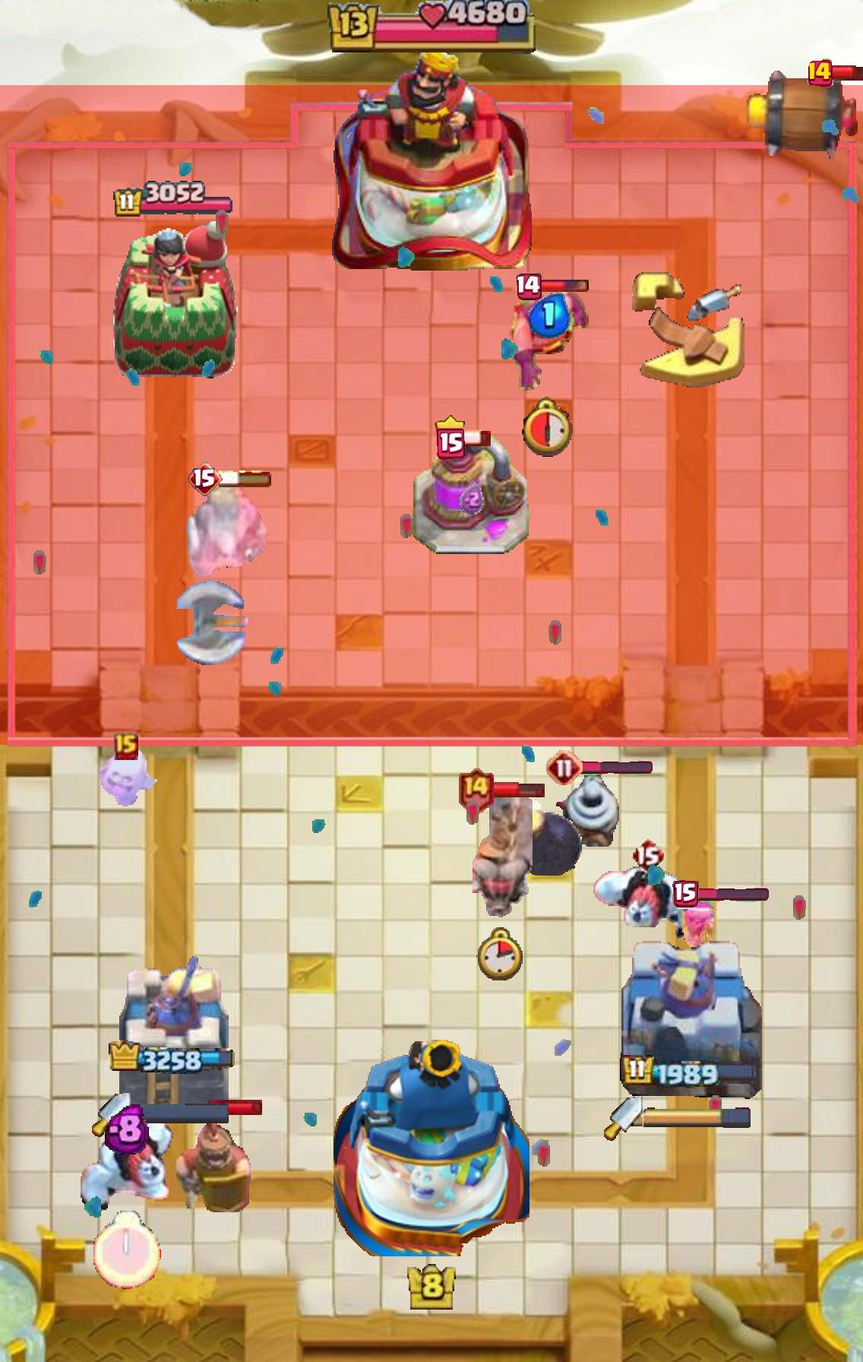elixir: (105, 1103, 149, 1155), (529, 294, 571, 339), (460, 483, 484, 514)
